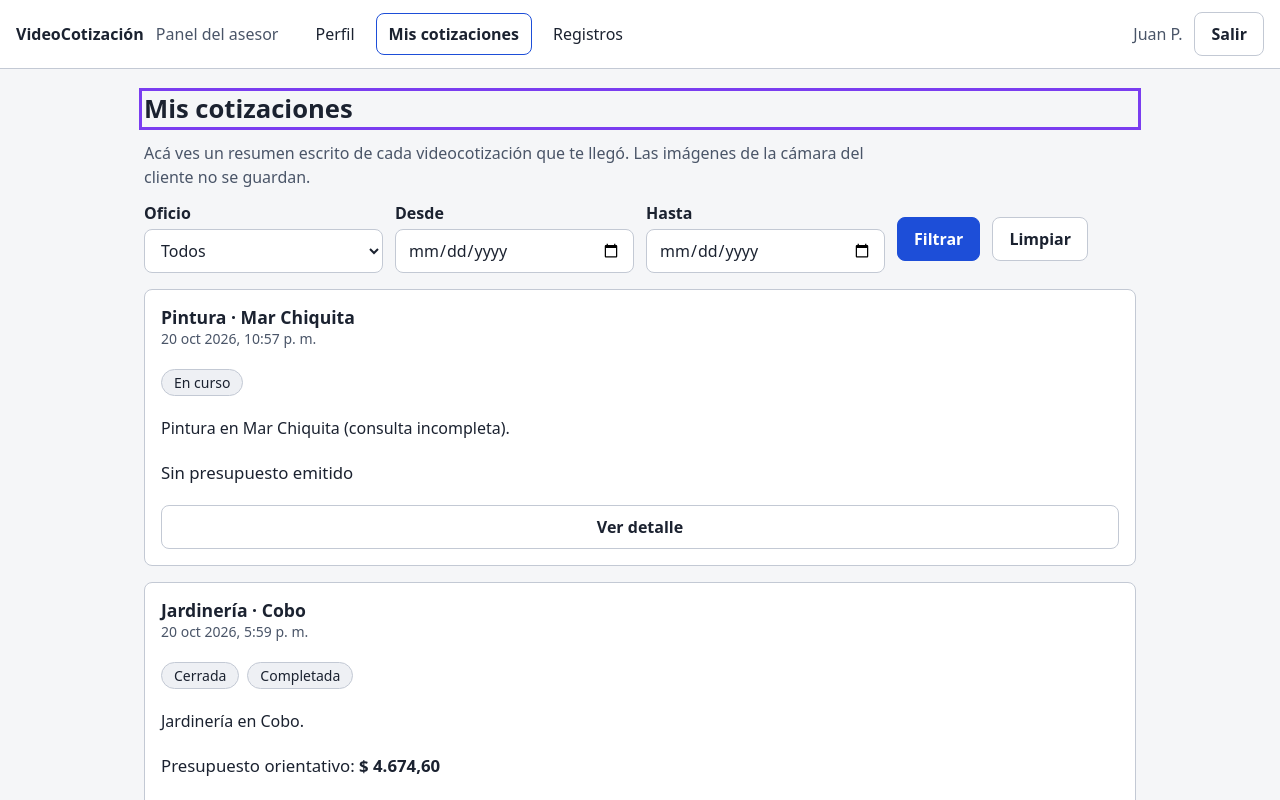
Test case: sesión del panel › "Salir" cierra la sesión en el servidor (DELETE con CSRF) y lo confirma
Click the button "Salir" at (1229, 34), box [1194,12,1264,56]
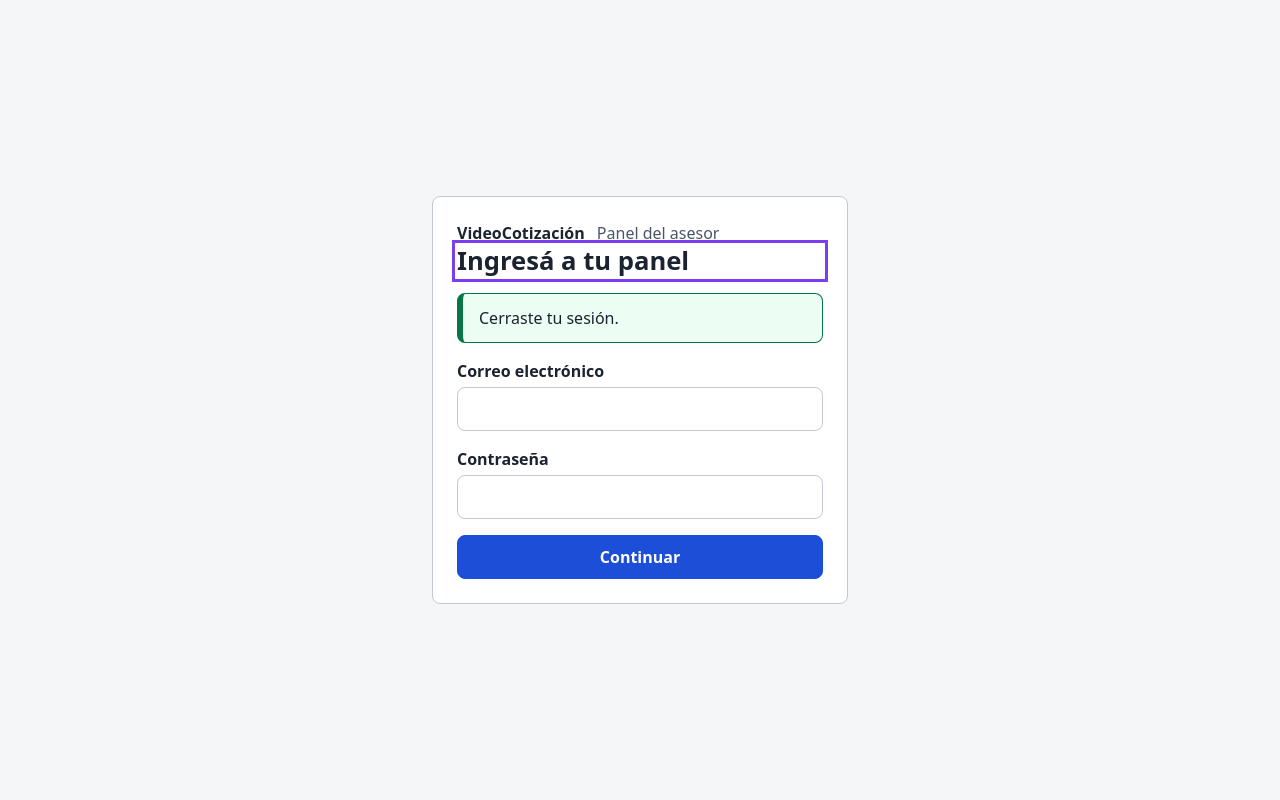
Now the heading "Ingresá a tu panel" is shown, box [457,243,689,278]
Now the message reads "Cerraste tu sesión.", box [479,307,619,329]
